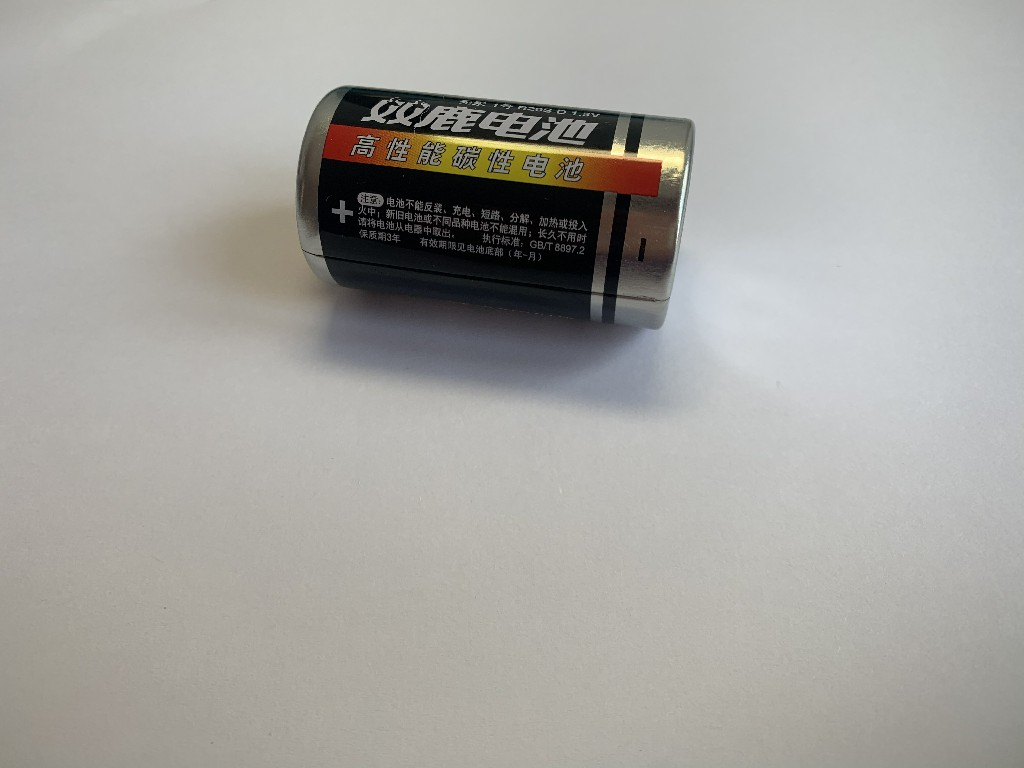charge: (287, 77, 699, 336)
